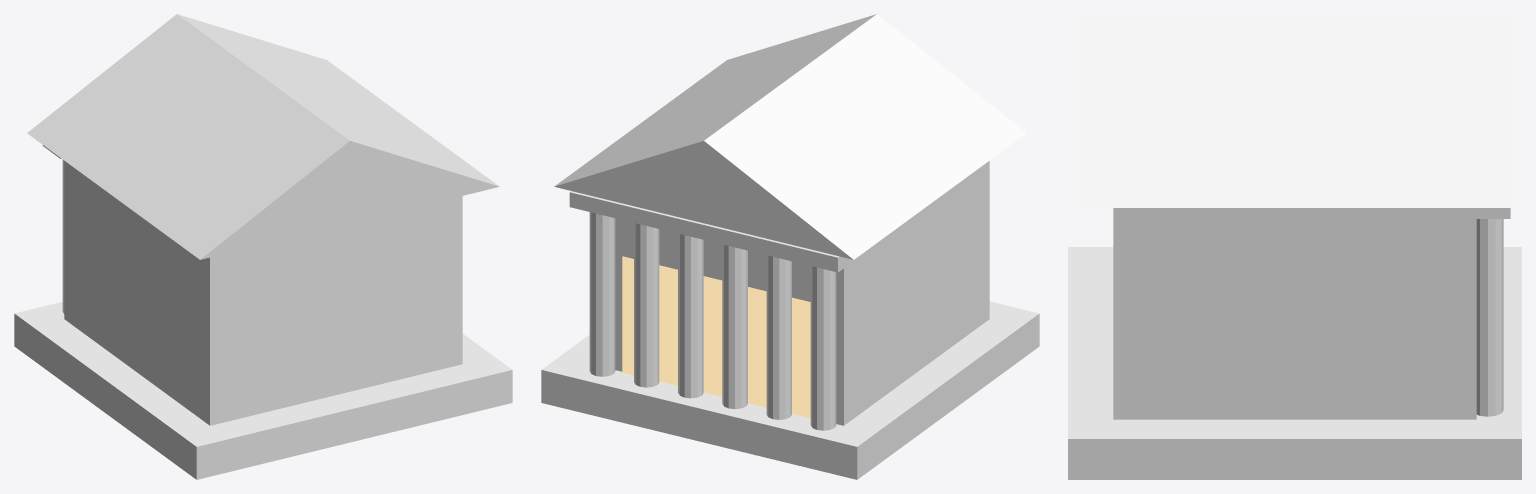
The model's file is SA-001_Human_Liaison.glb.
3 views of the same model, side by side, from view 1: azimuth 30°, elevation 25°; view 2: azimuth 150°, elevation 25°; view 3: azimuth 270°, elevation 25° (orthographic). The views are drawn at different scales.
Parts seen in each view (by area): view 1: Temple_Structure, Temple_Roof, Temple_Base; view 2: Temple_Roof, Temple_Structure, Temple_Base, Temple_Front_Glow, Pediment_Slab, Column_Portico_5, Column_Portico_0, Column_Portico_1, Column_Portico_2, Column_Portico_3, Column_Portico_4; view 3: Temple_Roof, Temple_Structure, Temple_Base, Column_Portico_5, Pediment_Slab.
Part boxes in pixels (box(x1,y1,x2,y2)): Temple_Structure: box(64, 161, 462, 425); Temple_Roof: box(27, 14, 499, 259); Temple_Base: box(14, 302, 512, 479); Temple_Roof: box(554, 14, 1026, 259); Temple_Structure: box(615, 161, 989, 425); Temple_Base: box(541, 301, 1039, 479); Temple_Front_Glow: box(622, 256, 810, 418); Pediment_Slab: box(569, 191, 856, 272); Column_Portico_5: box(589, 212, 615, 376); Column_Portico_0: box(810, 266, 836, 430); Column_Portico_1: box(766, 255, 791, 419); Column_Portico_2: box(722, 244, 747, 409); Column_Portico_3: box(678, 233, 703, 398); Column_Portico_4: box(634, 223, 659, 387); Temple_Roof: box(1079, 14, 1510, 207); Temple_Structure: box(1113, 208, 1476, 419); Temple_Base: box(1068, 247, 1521, 479); Column_Portico_5: box(1476, 219, 1503, 416); Pediment_Slab: box(1465, 208, 1510, 218).
Size of the model in its own units: 4 by 3.6 by 4.
